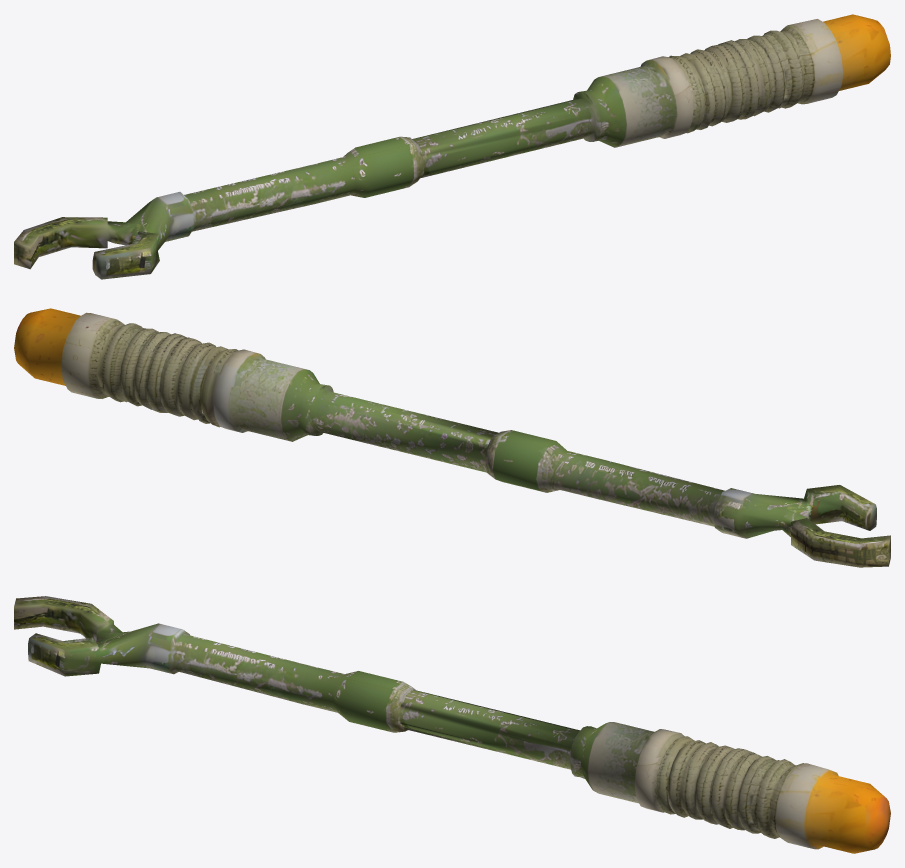
3 views of the same model, one above another, from view 1: azimuth 30°, elevation 25°; view 2: azimuth 150°, elevation 25°; view 3: azimuth 330°, elevation 25° (orthographic).
Visible parts, largest first — view 1: material; view 2: material; view 3: material.
Part boxes in pixels (left/top/right/bottom): material: left=14, top=14, right=890, bottom=279; material: left=14, top=308, right=890, bottom=567; material: left=14, top=596, right=890, bottom=853.
Size of the model in its own units: 190 by 15.43 by 22.85.
1 material, 1 textured.
